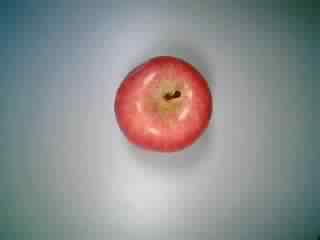apple: (109, 55, 214, 157)
